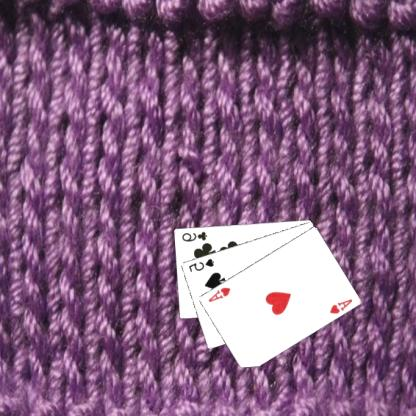5S: (187, 256, 217, 273)
9C: (180, 229, 210, 243)
AH: (206, 284, 234, 303), (329, 296, 355, 315)
